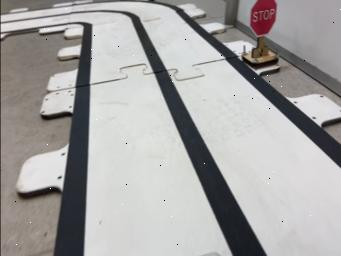stop: (241, 0, 279, 70), (241, 0, 279, 70), (241, 0, 279, 70), (241, 0, 279, 70), (241, 0, 279, 70), (241, 0, 279, 70)
street: (55, 2, 341, 256), (55, 2, 341, 256), (55, 2, 341, 256), (55, 2, 341, 256), (55, 2, 341, 256), (55, 2, 341, 256)
